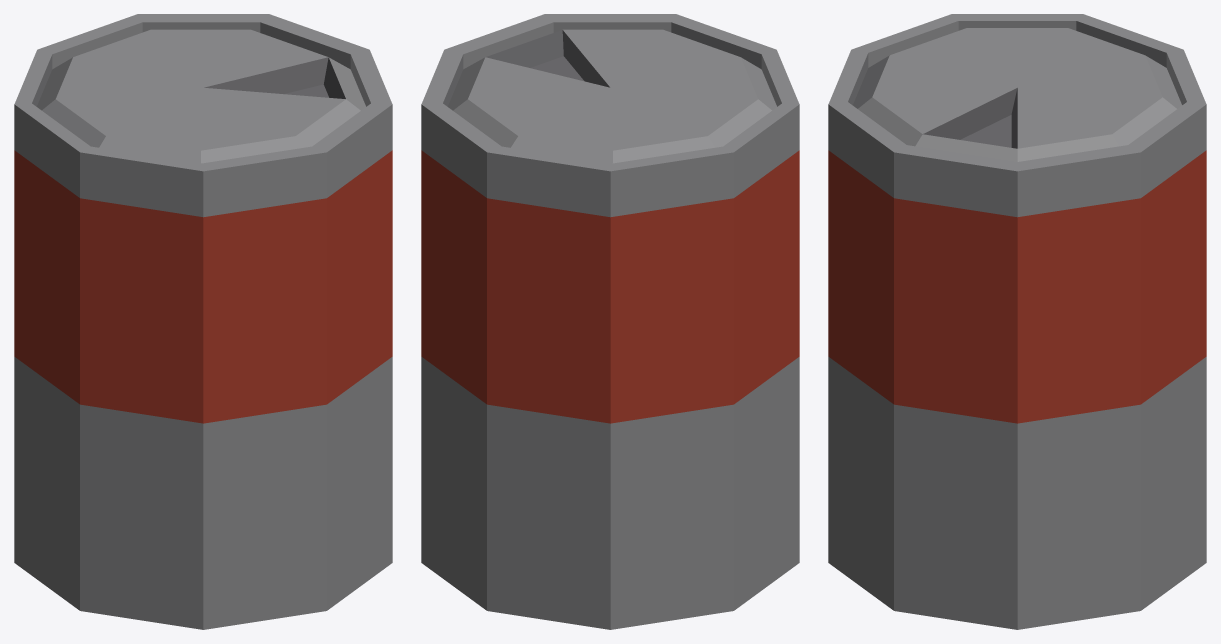
Rendered from MenuLvl.fbx.
3 renders of one model, left to right at view 1: azimuth 30°, elevation 25°; view 2: azimuth 150°, elevation 25°; view 3: azimuth 270°, elevation 25°, orthographic.
Visible parts, largest first — view 1: Can; view 2: Can; view 3: Can.
Part boxes in pixels (bbox=[...]): Can: bbox=[14, 14, 392, 629]; Can: bbox=[421, 14, 799, 629]; Can: bbox=[828, 14, 1206, 629].
Bounding box in the file's own units: 0.4729 × 0.6461 × 0.4802.
